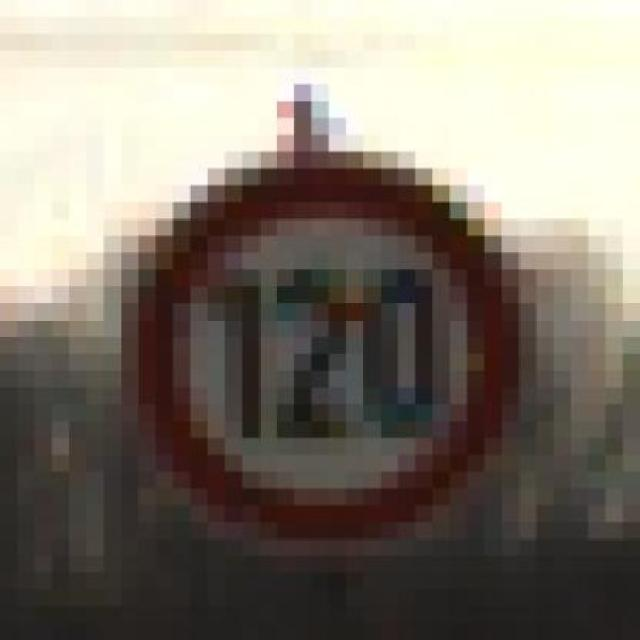forb_speed_over_120: (132, 160, 513, 545)
